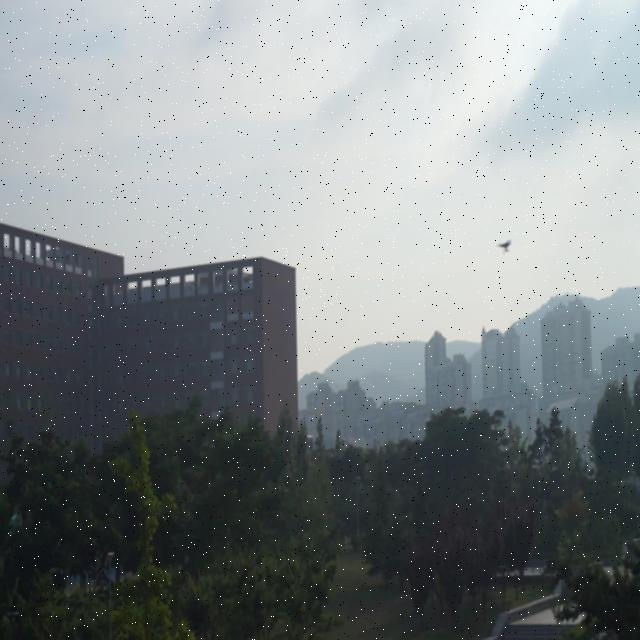UAV: (496, 240, 512, 253)
